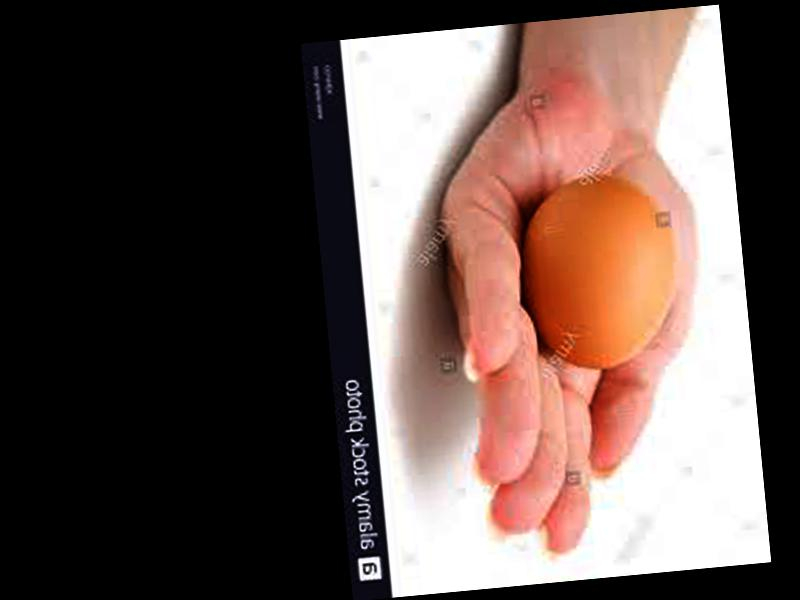Eggs: (515, 167, 688, 373)
